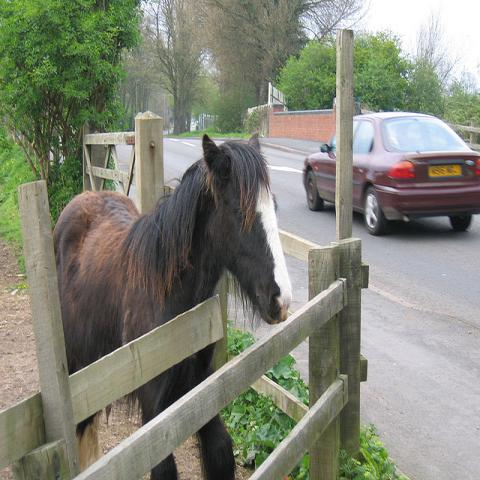car: (302, 109, 480, 238)
